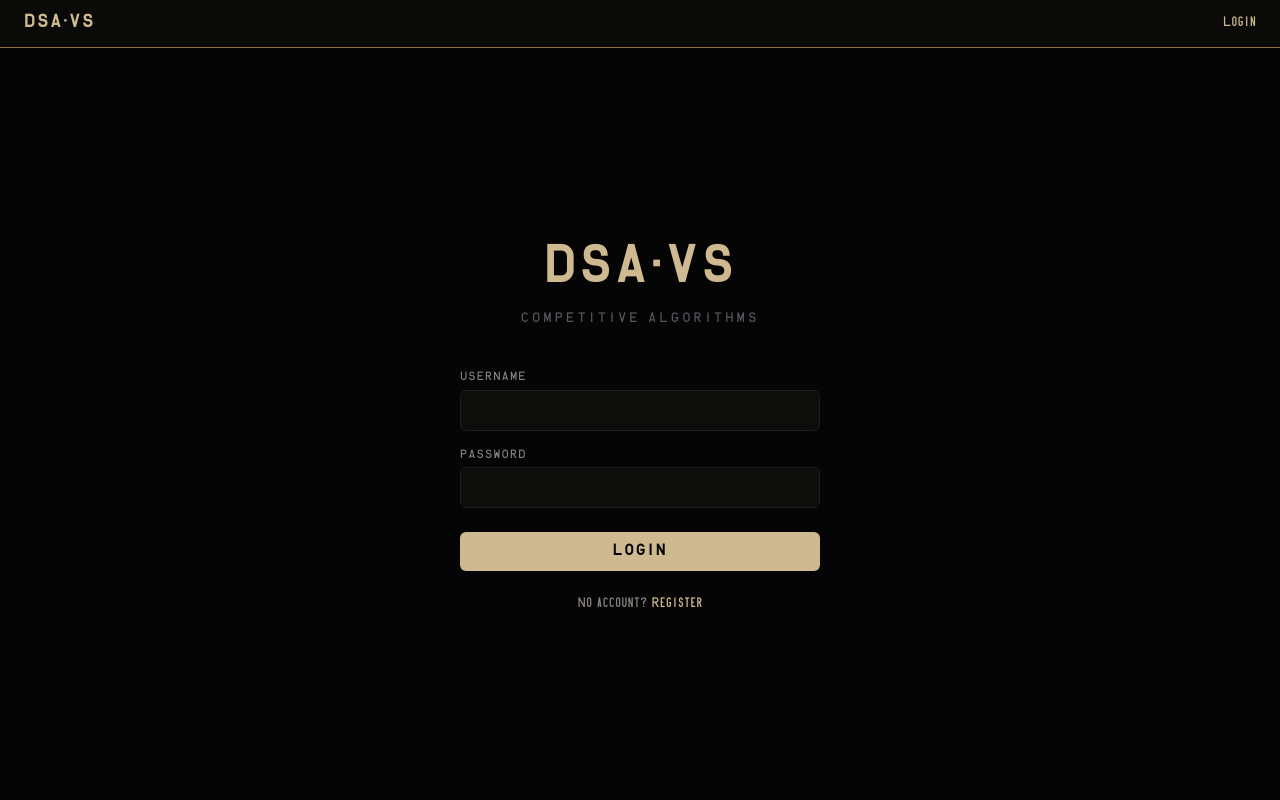
Test: login › shows banned-user denial message on login
The width and height of the screenshot is (1280, 800).
Type "banned" into the field labelled "Username". click: x=640, y=410
box: [460,390,820,430]
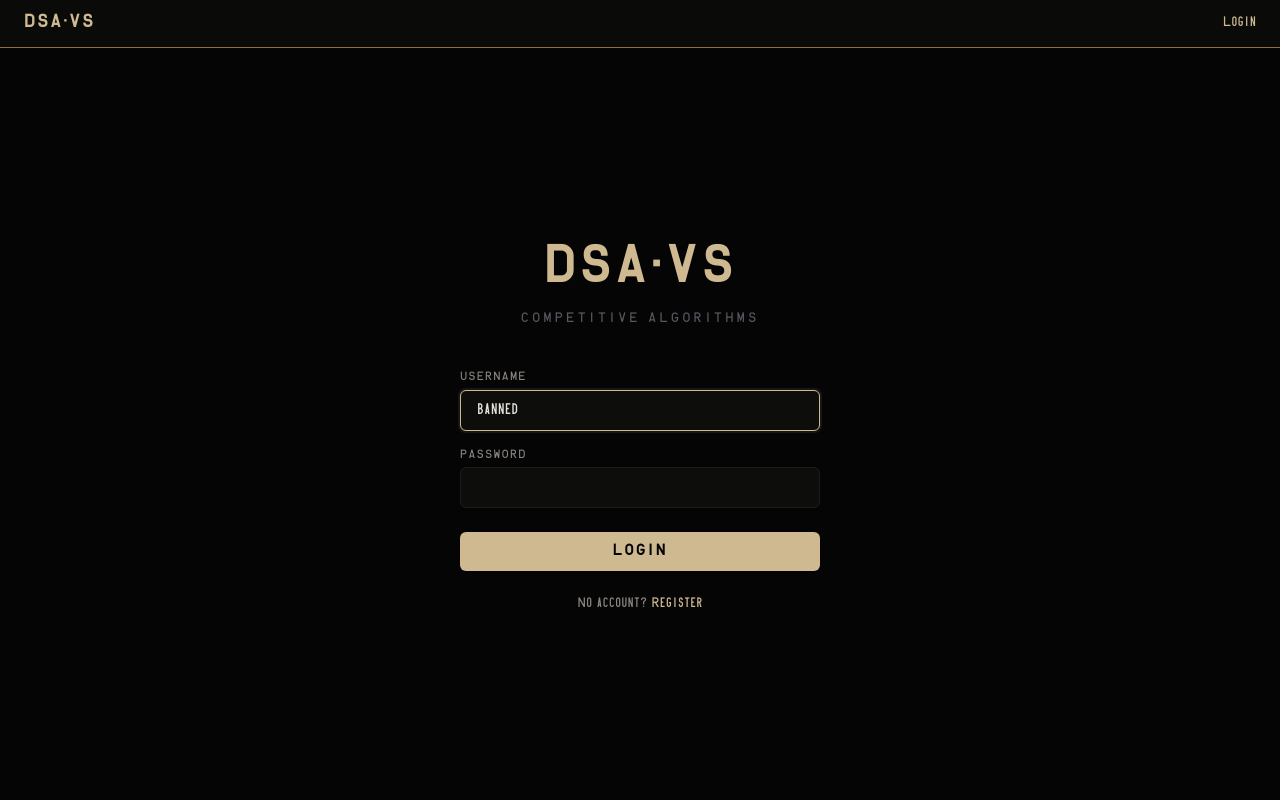
Type "Password123" into the password field labelled "Password". click: x=640, y=488
box: [460,467,820,508]
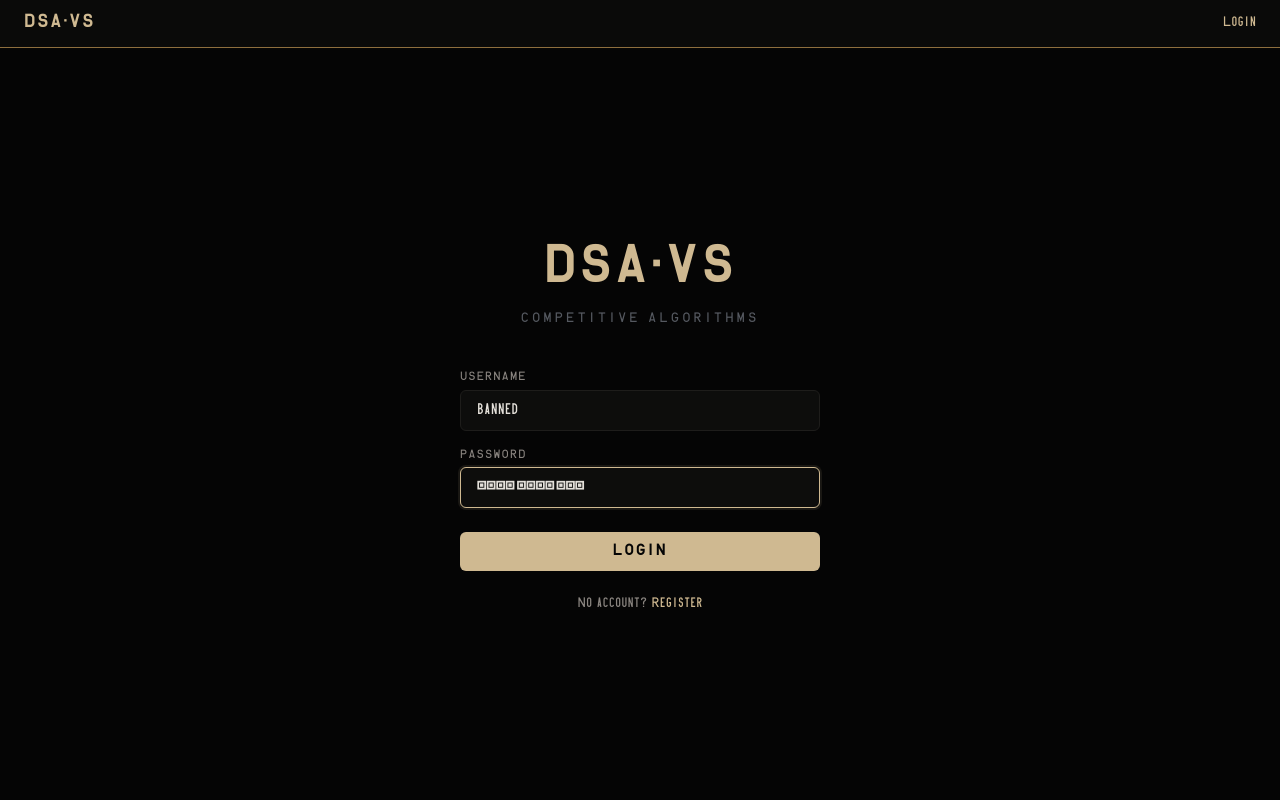
Click the button "Login". click: x=640, y=552
box: [460,532,820,571]
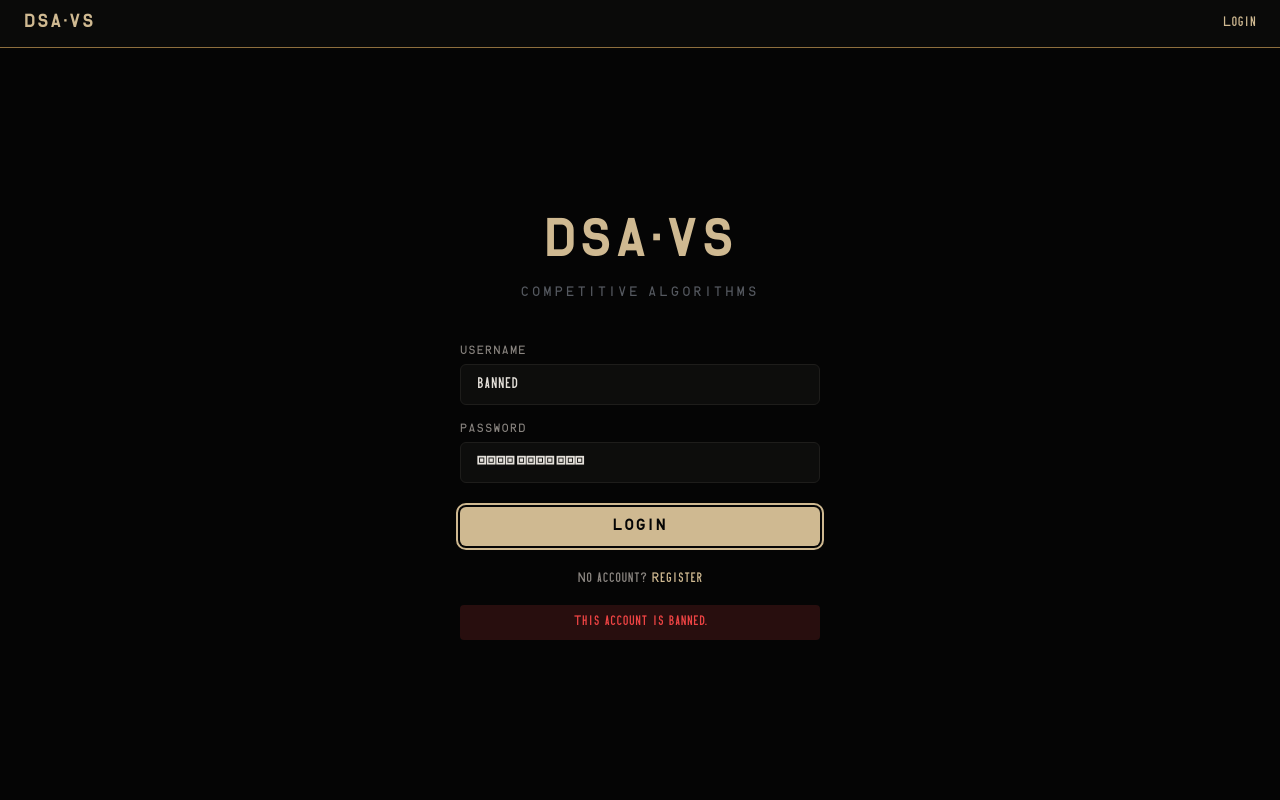
expect the message shows "banned": met, box [574,616,706,628]
